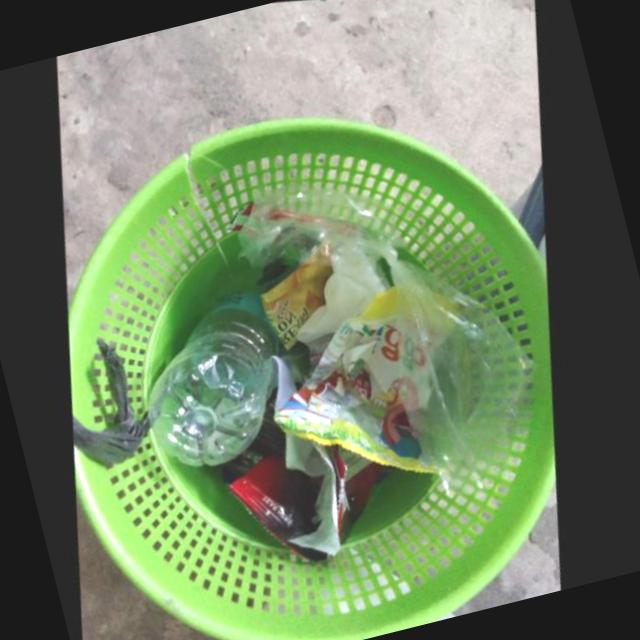bao_bi_thuc_pham: (277, 314, 435, 471), (231, 430, 386, 561), (262, 243, 336, 349)
chai_nhua_pet: (150, 291, 284, 466)
